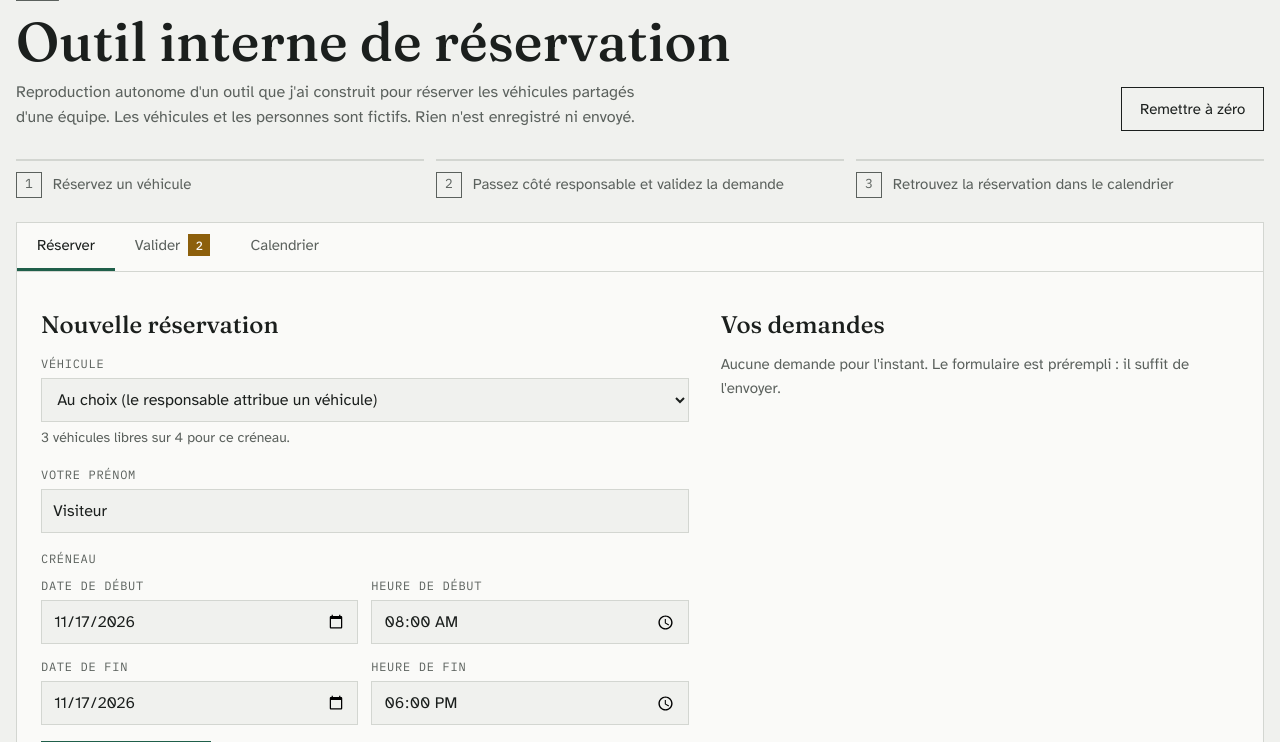
Test: démo de réservation › refuse une demande sur un véhicule déjà pris, sans rien envoyer
This screenshot has width=1280, height=742.
La citadine grise est réservée le 17 de 8 h à 12 h, le créneau prérempli la recoupe.
Select "Citadine grise (déjà réservé sur ce créneau)" in the dropdown labelled "Véhicule". click: (365, 400)
box: [41,378,689,422]
(page scrolled)
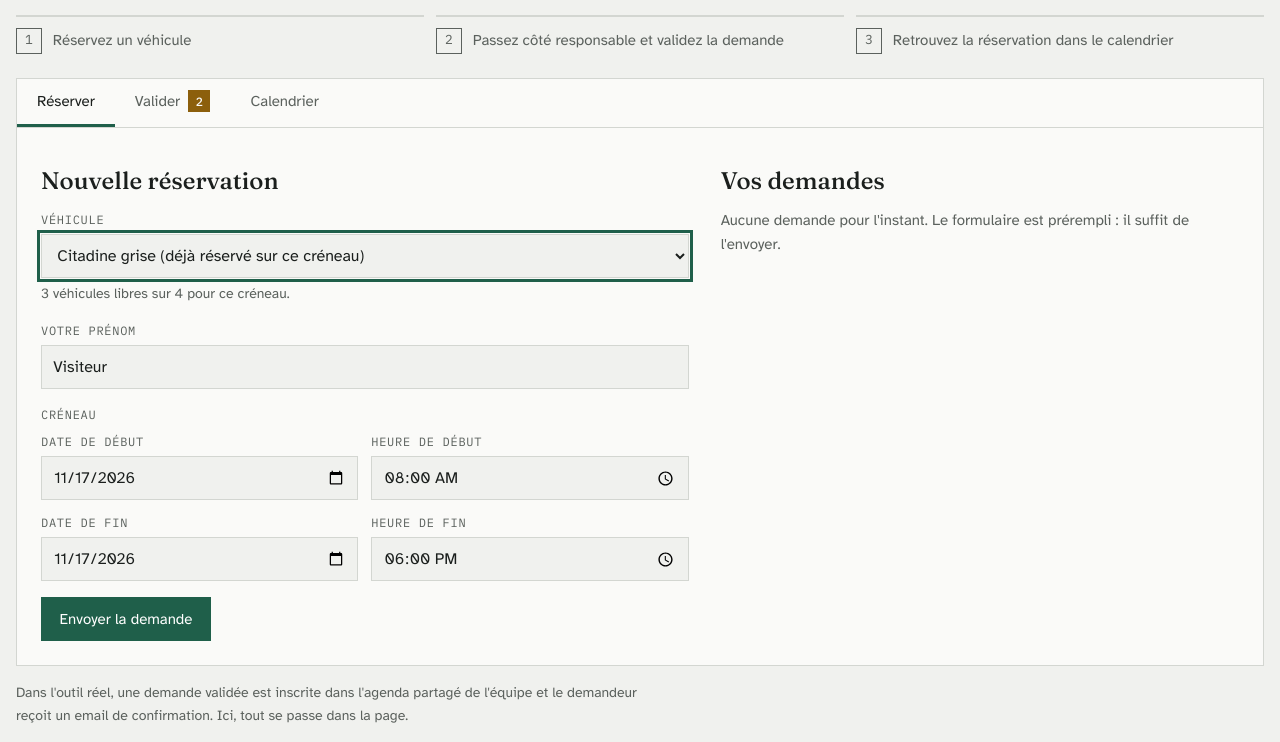
Click the button "Envoyer la demande". click: (126, 619)
box: [41,597,211,641]
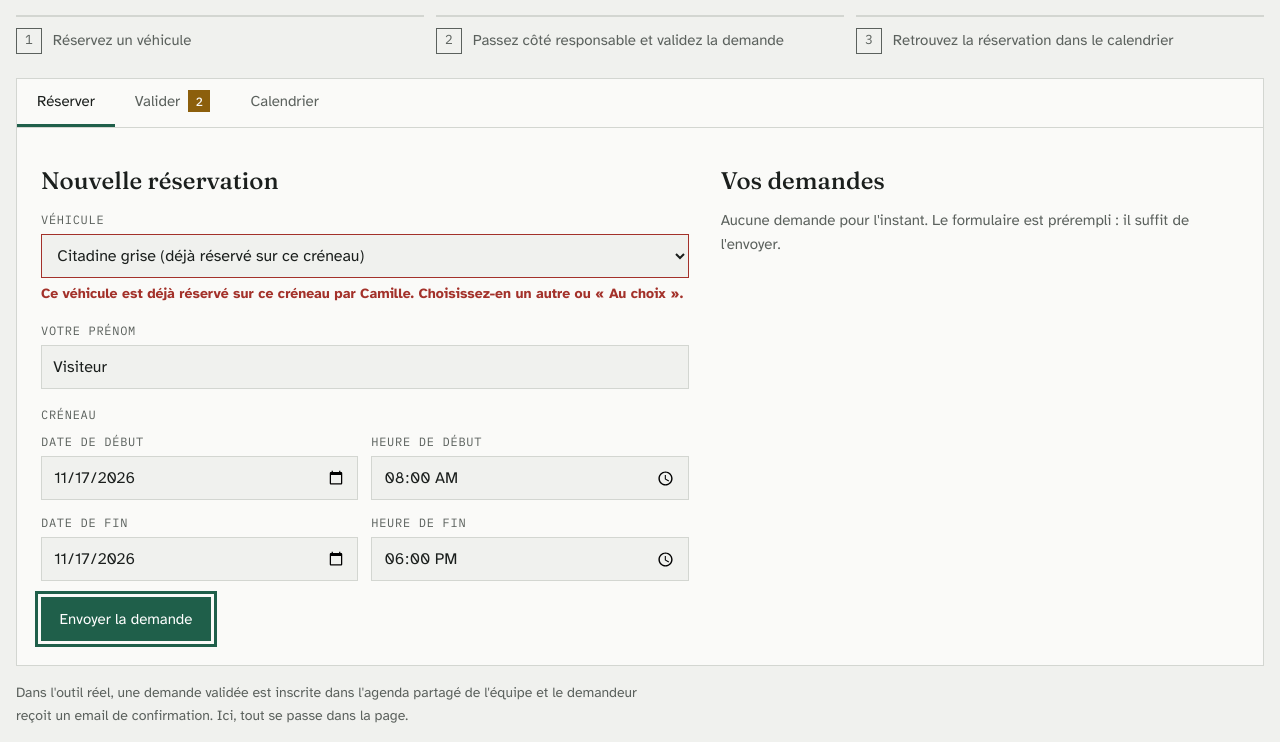
Expected: the text "Aucune demande pour l'instant" is shown, [721,211,1189,253]
Now the 2nd message shows "déjà réservé sur ce créneau par Camille", box [41,285,683,302]
